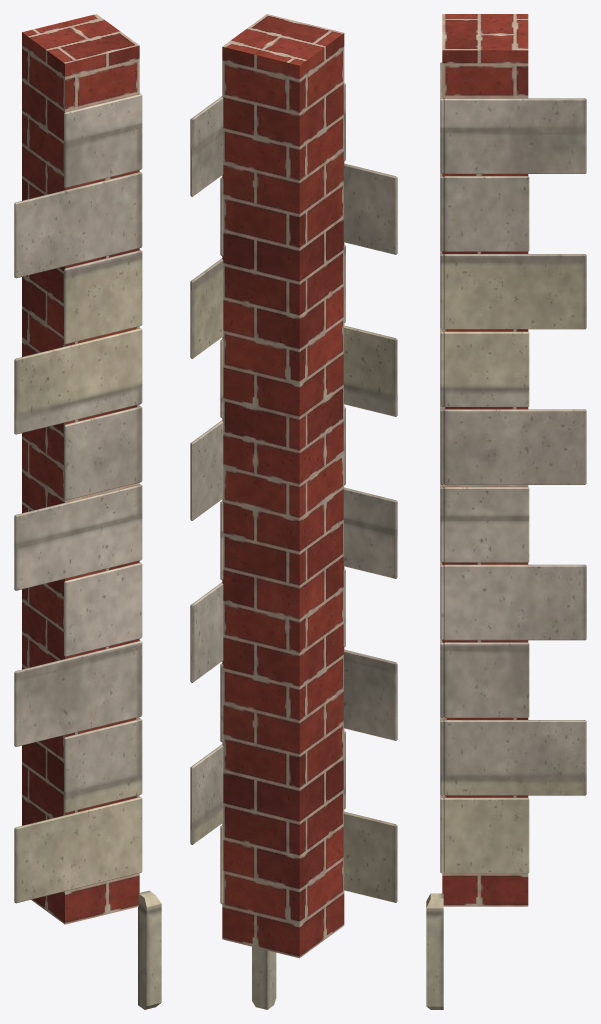
Rendered from corner1.glb.
3 renders of one model, left to right at view 1: azimuth 30°, elevation 25°; view 2: azimuth 150°, elevation 25°; view 3: azimuth 270°, elevation 25°, orthographic. The views are drawn at different scales.
Visible parts, largest first — view 1: corner1_stone_t, corner1_brick; view 2: corner1_brick, corner1_stone_t; view 3: corner1_stone_t, corner1_brick.
Boxes of the visible parts, box(x1,y1,x2,y2) form: corner1_stone_t: box(14, 93, 161, 1009); corner1_brick: box(22, 14, 139, 924); corner1_brick: box(222, 14, 344, 958); corner1_stone_t: box(190, 82, 397, 1009); corner1_stone_t: box(426, 62, 586, 1009); corner1_brick: box(442, 14, 528, 906).
Bounding box in the file's own units: 0.56 × 3.69 × 0.56.
Materials: 2 (2 with a texture image).
